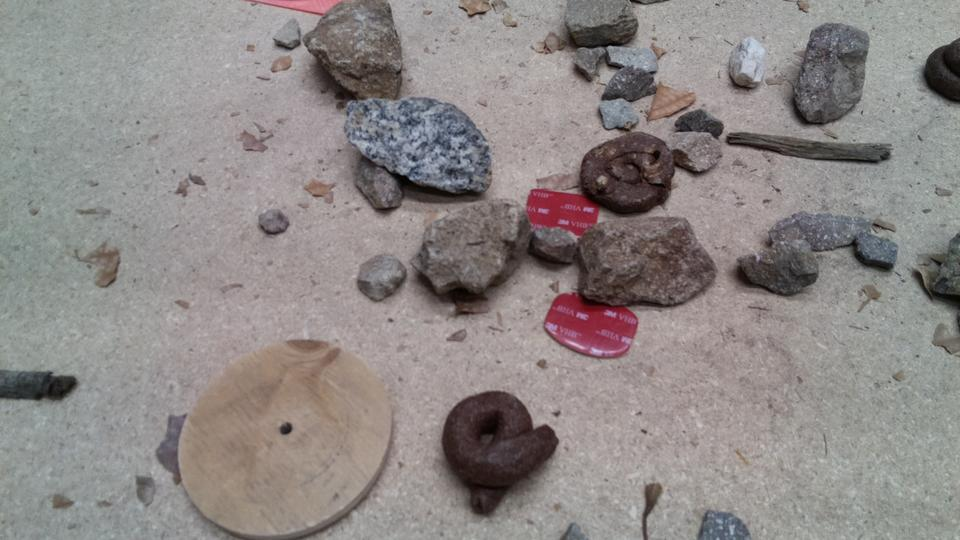poop: (438, 386, 560, 519), (579, 130, 677, 215), (922, 36, 960, 106)
